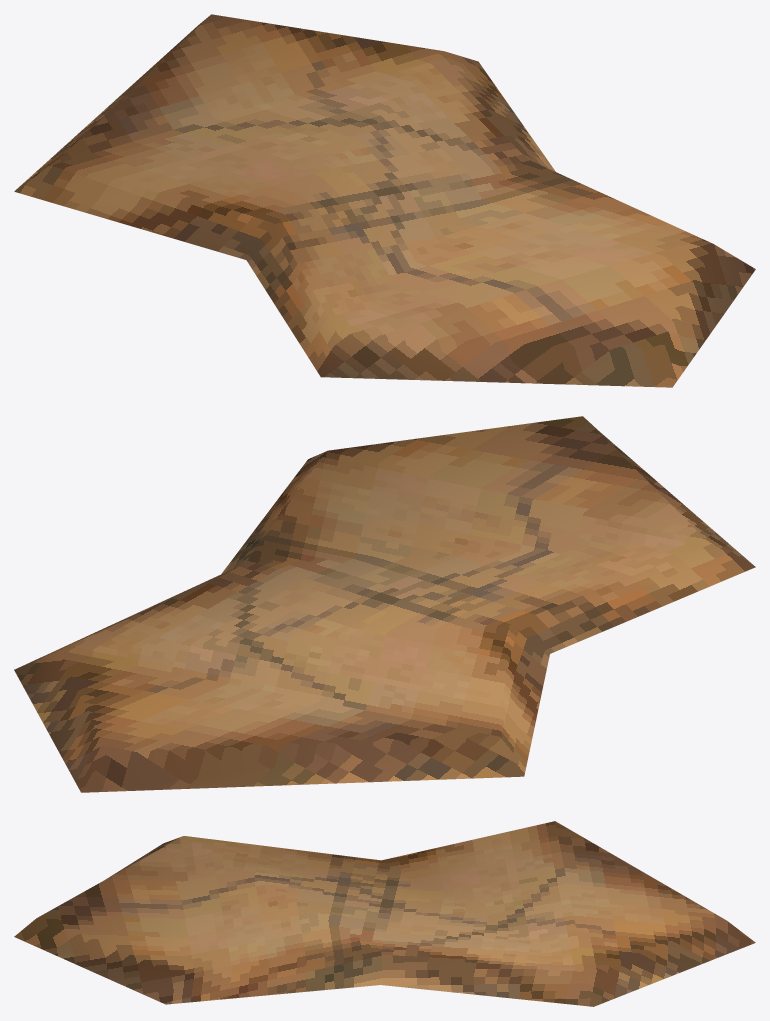
Rendered from con_gen_organic_hide_leather_l3.fbx.
3 renders of one model, top to bottom at view 1: azimuth 30°, elevation 25°; view 2: azimuth 150°, elevation 25°; view 3: azimuth 270°, elevation 25°, orthographic. The views are drawn at different scales.
Visible parts, largest first — view 1: mesh_node; view 2: mesh_node; view 3: mesh_node.
Boxes of the visible parts, x1,y1,x2,y2 form: mesh_node: (14, 14, 755, 387); mesh_node: (14, 416, 755, 792); mesh_node: (14, 821, 755, 1006).
Size of the model in its own units: 1.14 by 0.0597 by 2.
1 material, 1 textured.
